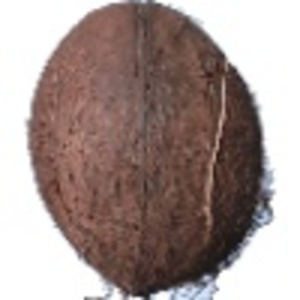coco: (27, 1, 277, 300)
